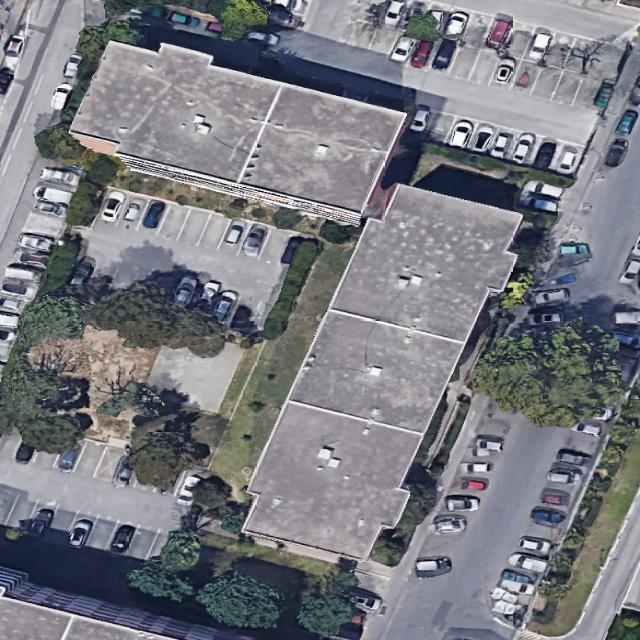immeuble: (230, 158, 534, 587), (63, 25, 410, 234), (0, 580, 251, 639)
